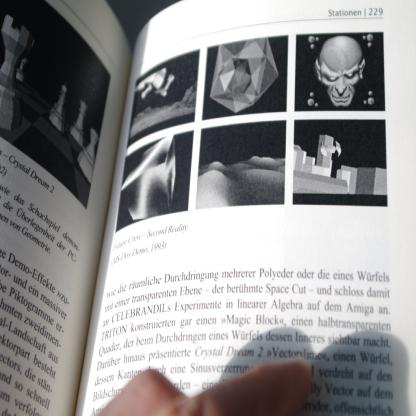book: (19, 0, 394, 396)
